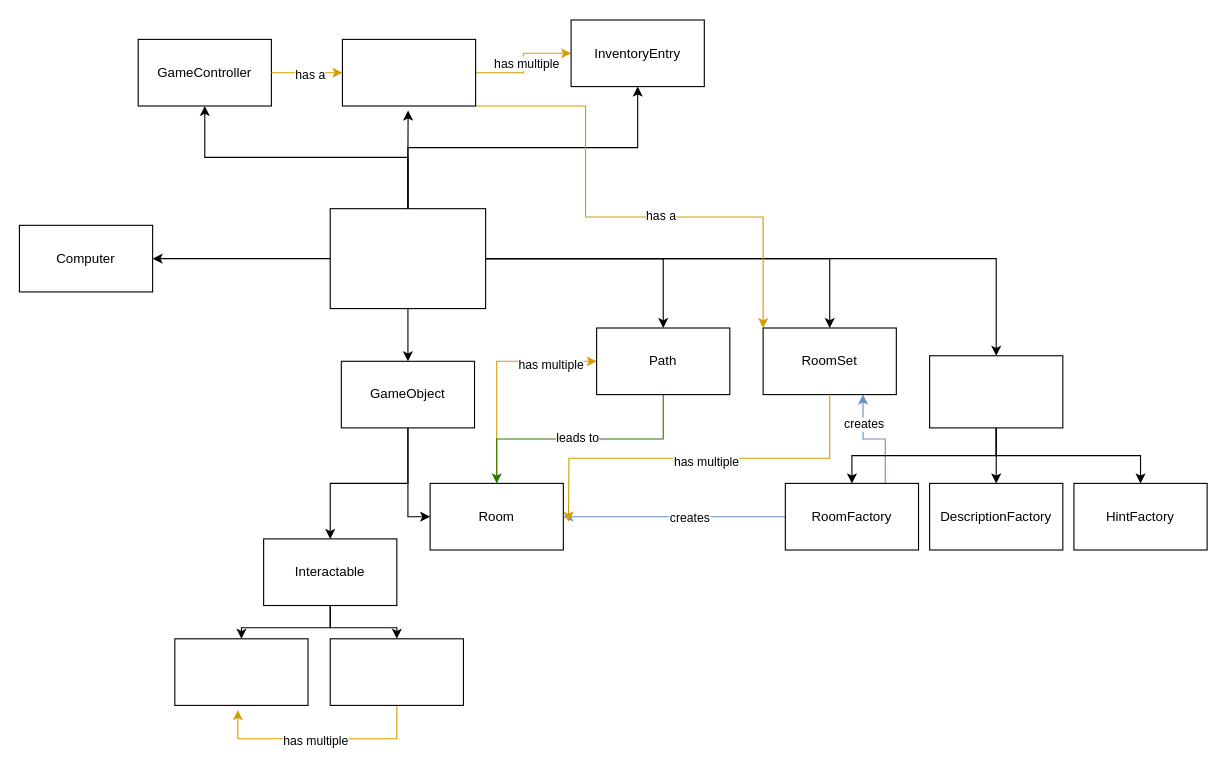
Some shapes in this 1227 by 767 pixel diagram are drawn without their labels. Here are the shapes that lost their labels. From the top down, the centre of each, then its label:
At [408,72]: "Game".
At [407,258]: "Object".
At [996,391]: "Factory".
At [241,671]: "Item".
At [396,671]: "Container".
